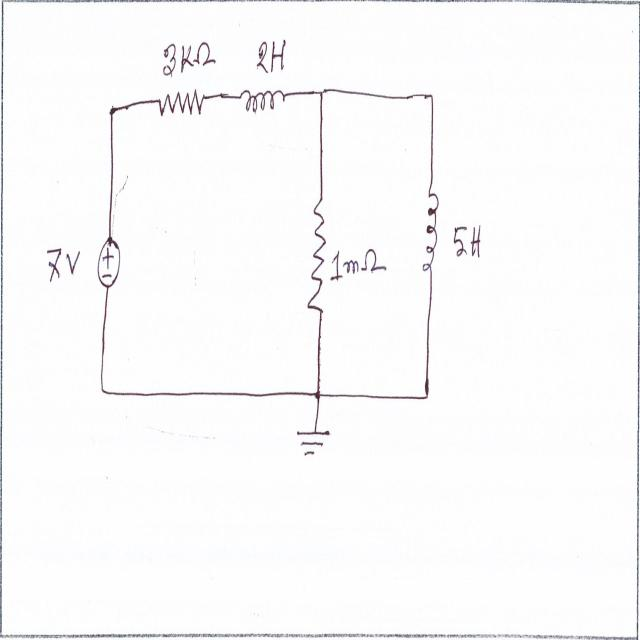ground: (292, 420, 333, 465)
inductor: (237, 78, 285, 118), (422, 185, 440, 288)
resistor: (305, 194, 327, 318), (158, 86, 207, 124)
voltage_source: (96, 237, 122, 296)
